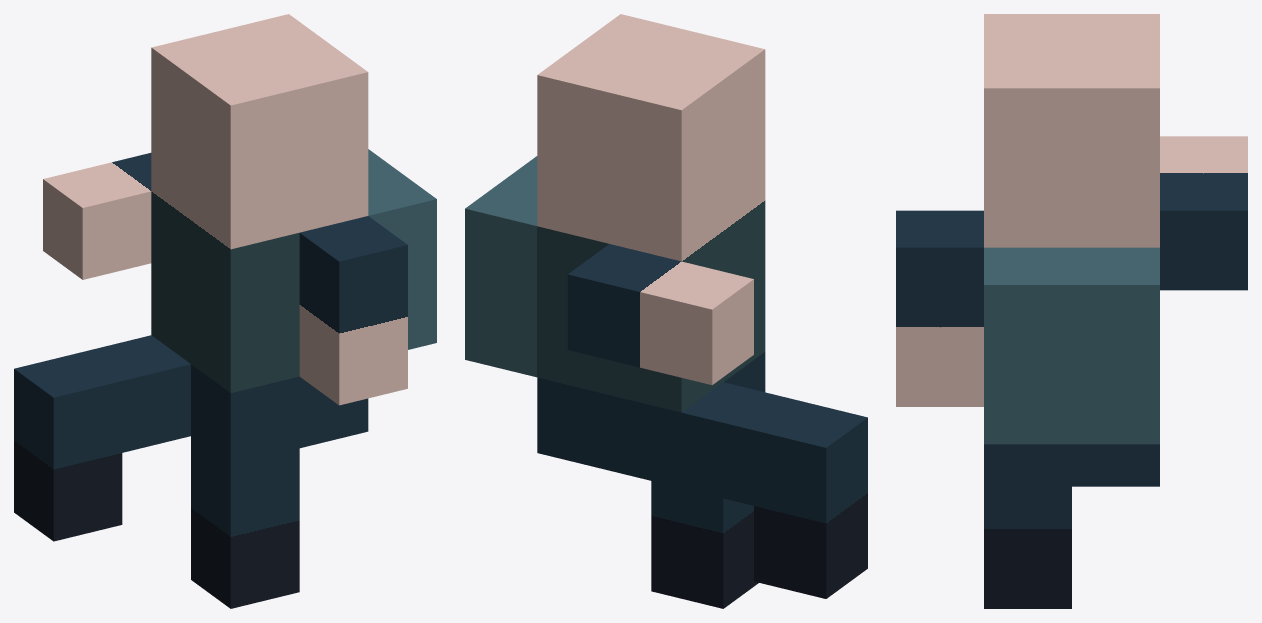
File: sam_fall.fbx
3 views of the same model, side by side, from view 1: azimuth 30°, elevation 25°; view 2: azimuth 150°, elevation 25°; view 3: azimuth 270°, elevation 25° (orthographic). The views are drawn at different scales.
Visible parts, largest first — view 1: sam_fall; view 2: sam_fall; view 3: sam_fall.
Boxes of the visible parts, x1=… form: sam_fall: x1=14, y1=14, x2=436, y2=608; sam_fall: x1=465, y1=14, x2=867, y2=608; sam_fall: x1=896, y1=14, x2=1247, y2=608.
Size of the model in its own units: 5 by 7 by 4.
1 material, 1 textured.
